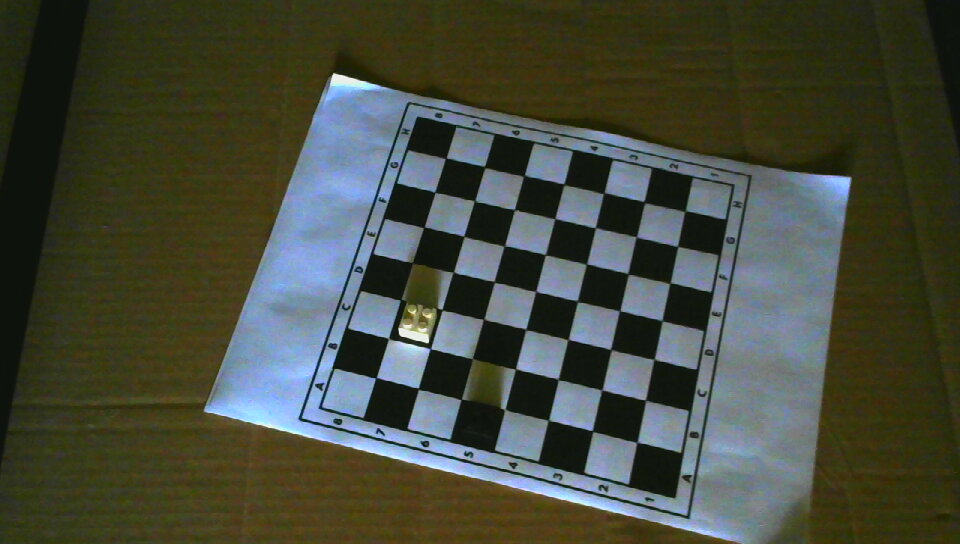bp: (460, 403, 501, 444)
wp: (397, 301, 437, 346)
